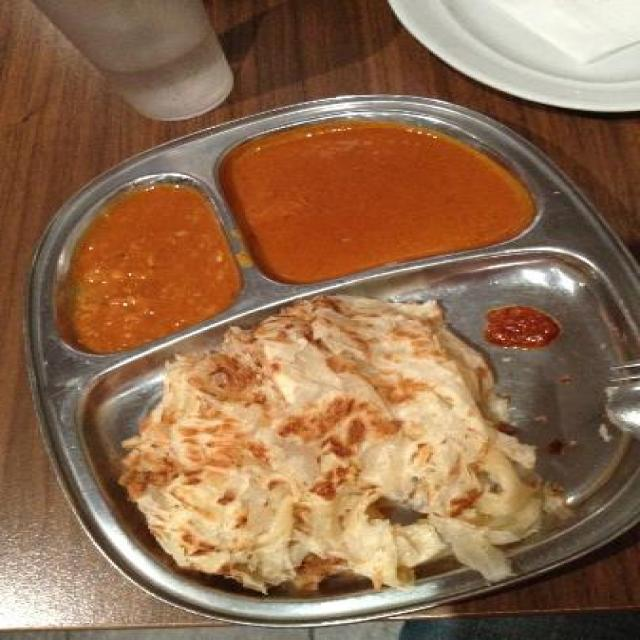Paratha: (125, 297, 528, 588)
